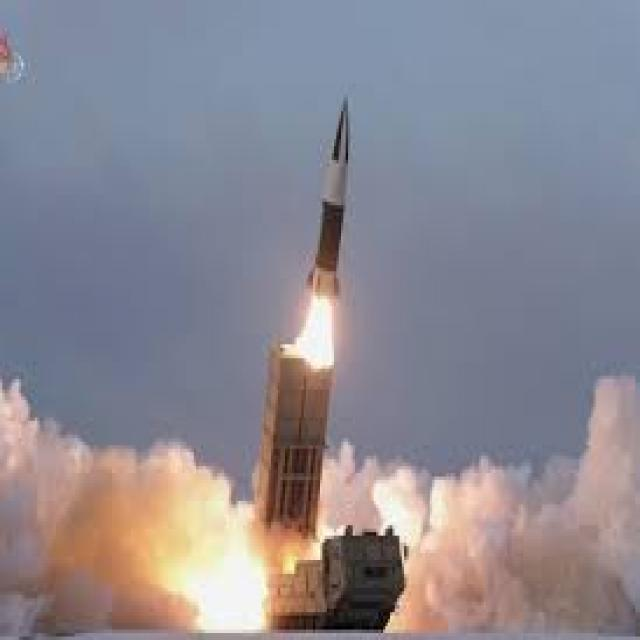Missile: (310, 87, 360, 304)
